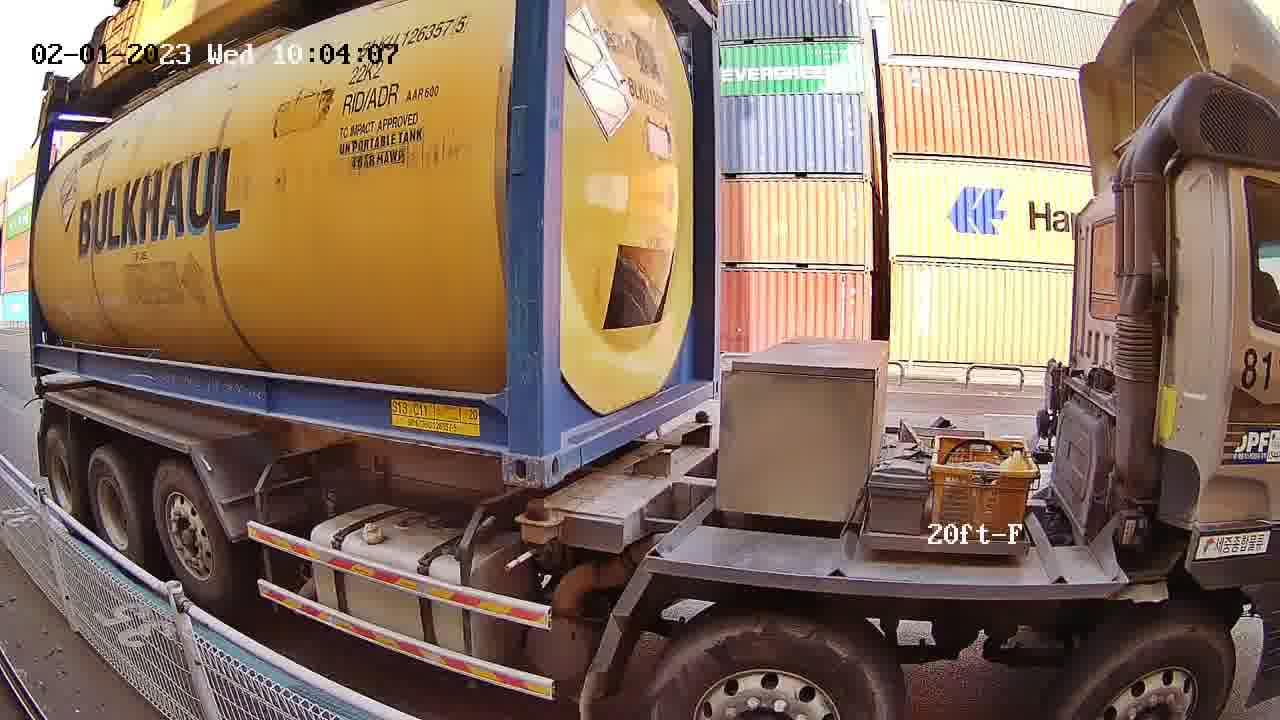Chassis: (510, 421, 713, 532)
Cone: (514, 497, 559, 546), (688, 411, 710, 428)
Hole_L: (541, 409, 584, 488)
Hole_R: (472, 410, 544, 488), (697, 362, 720, 402)
Tire: (151, 467, 228, 600), (86, 451, 143, 566), (43, 428, 79, 527)
